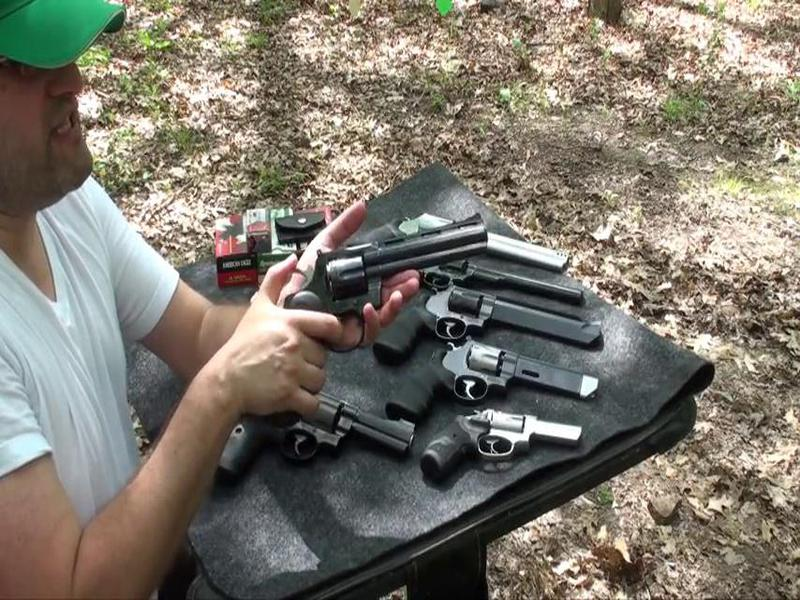Revolver: (277, 214, 489, 353)
